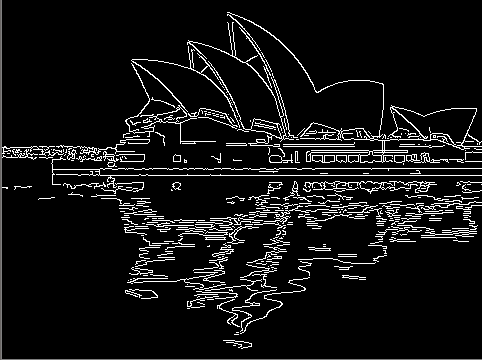opera house: (93, 1, 468, 151)
